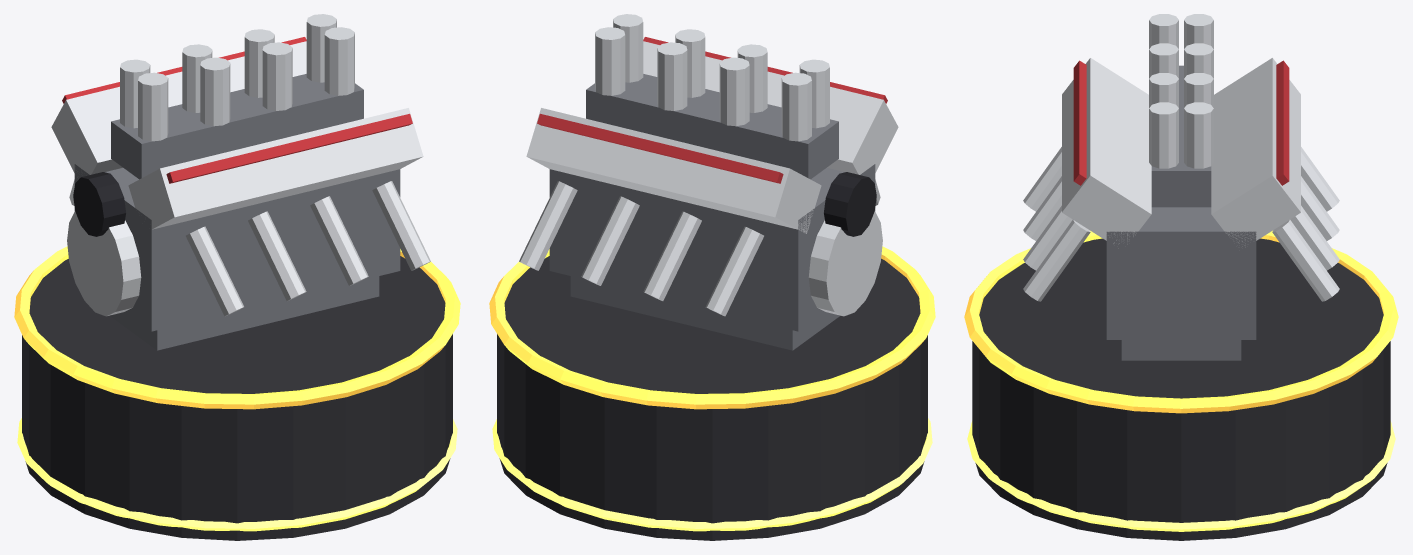
File: login_m01_w3.glb
3 renders of one model, left to right at view 1: azimuth 30°, elevation 25°; view 2: azimuth 150°, elevation 25°; view 3: azimuth 270°, elevation 25°, orthographic. The views are drawn at different scales.
Visible parts, largest first — view 1: login_m01_w3; view 2: login_m01_w3; view 3: login_m01_w3.
Part boxes in pixels (<box>): login_m01_w3: <box>14,14,460,540</box>; login_m01_w3: <box>489,14,935,540</box>; login_m01_w3: <box>964,14,1398,540</box>.
Size of the model in its own units: 0.872 by 0.86 by 0.872.
